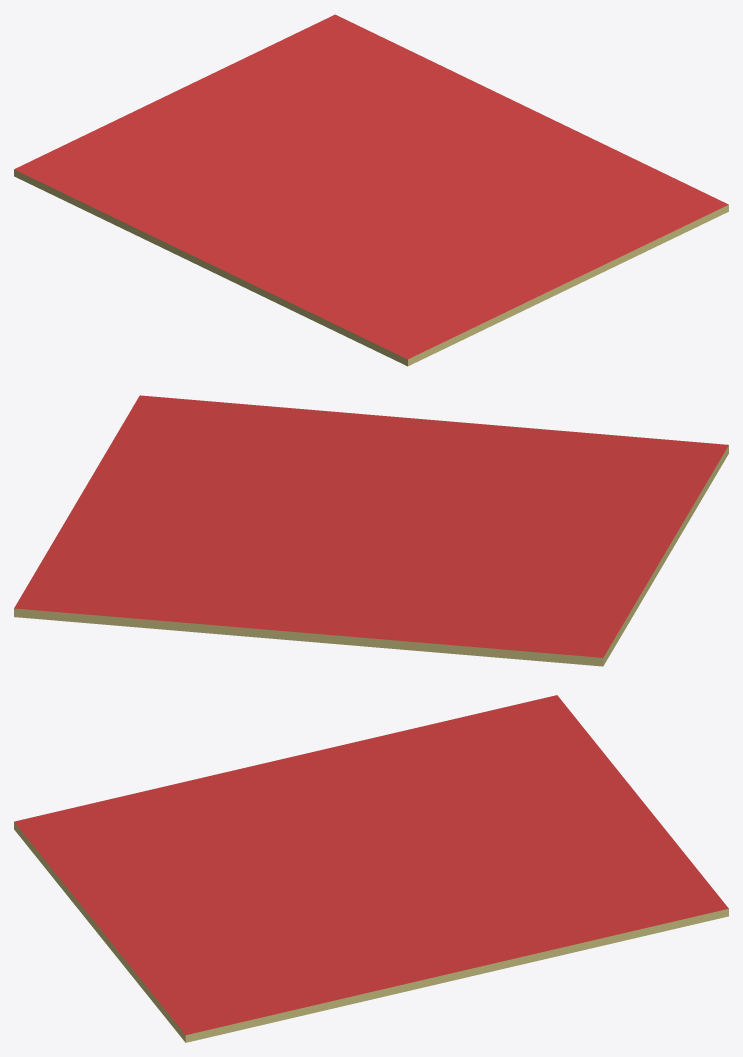
3 views of the same model, one above another, from view 1: azimuth 30°, elevation 25°; view 2: azimuth 150°, elevation 25°; view 3: azimuth 270°, elevation 25° (orthographic). The views are drawn at different scales.
Bounding box in the file's own units: 8.12 × 8.41 × 0.73.
